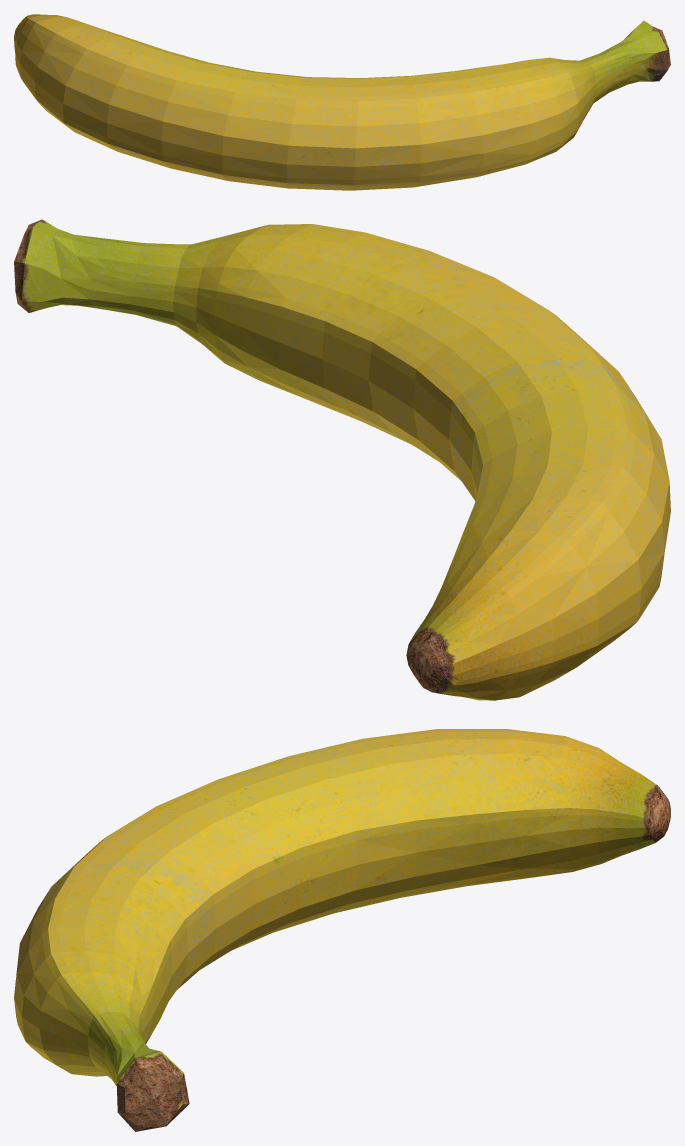
The model's file is banana07.dae.
3 renders of one model, top to bottom at view 1: azimuth 30°, elevation 25°; view 2: azimuth 150°, elevation 25°; view 3: azimuth 270°, elevation 25°, orthographic. The views are drawn at different scales.
Visible parts, largest first — view 1: SketchUp; view 2: SketchUp; view 3: SketchUp.
Boxes of the visible parts, x1,y1,x2,y2 form: SketchUp: (14,14,670,190); SketchUp: (14,219,670,700); SketchUp: (14,729,670,1131).
Bounding box in the file's own units: 3.17 × 2.63 × 0.6145.
